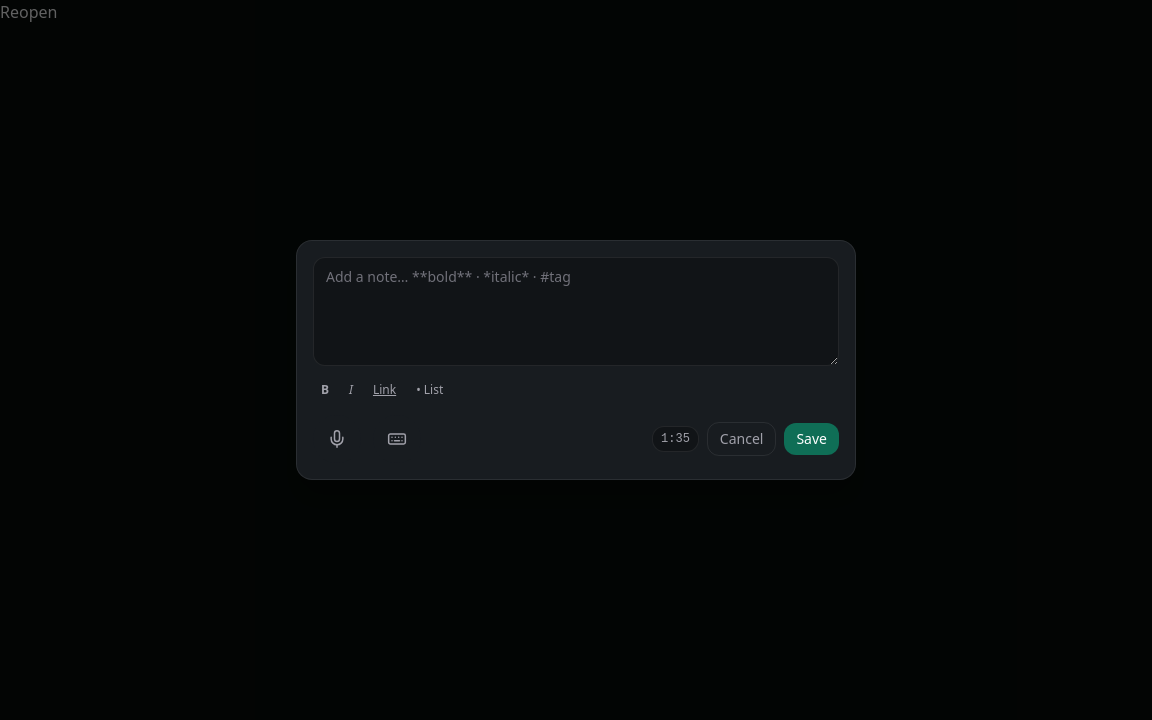
it: CommentEditorSheet › mic records, transcribes and inserts the draft at the caret
The width and height of the screenshot is (1152, 720).
Expected: the button with test id "voice-mic" is enabled, [313,415,361,463]
Type "prior " into the text box named "Comment".
click(576, 312); type("prior ")  # box [313,257,839,366]
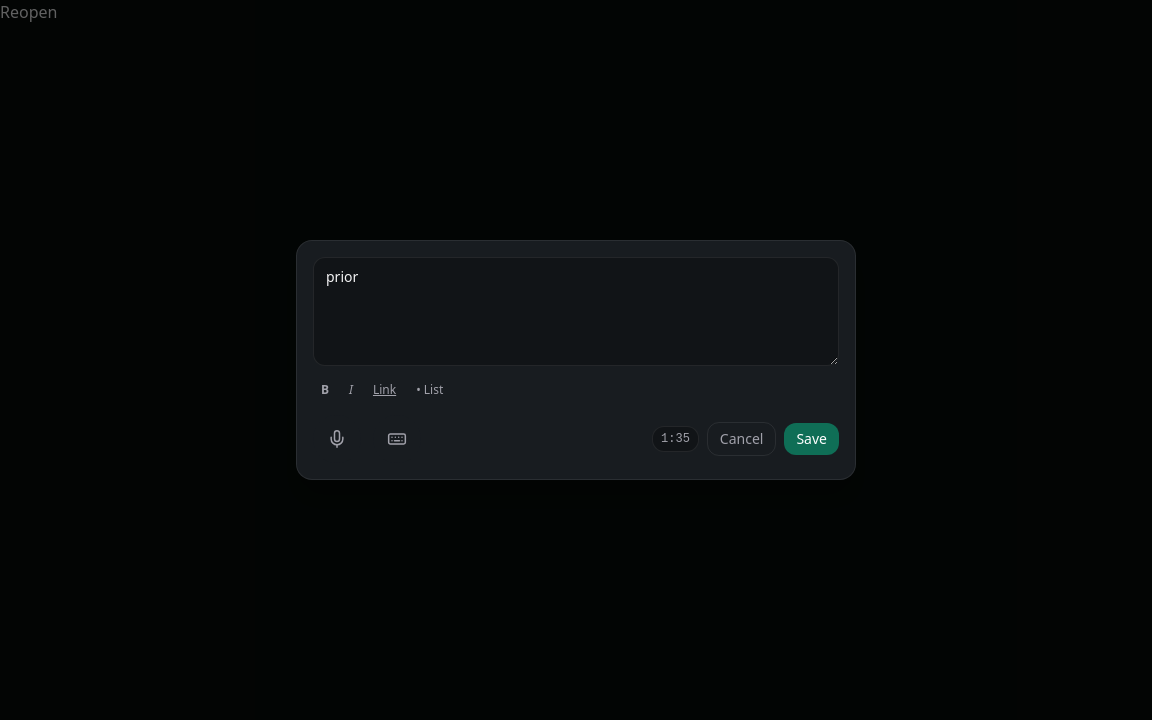
Click the button with test id "voice-mic".
click(337, 439)  # box [313,415,361,463]
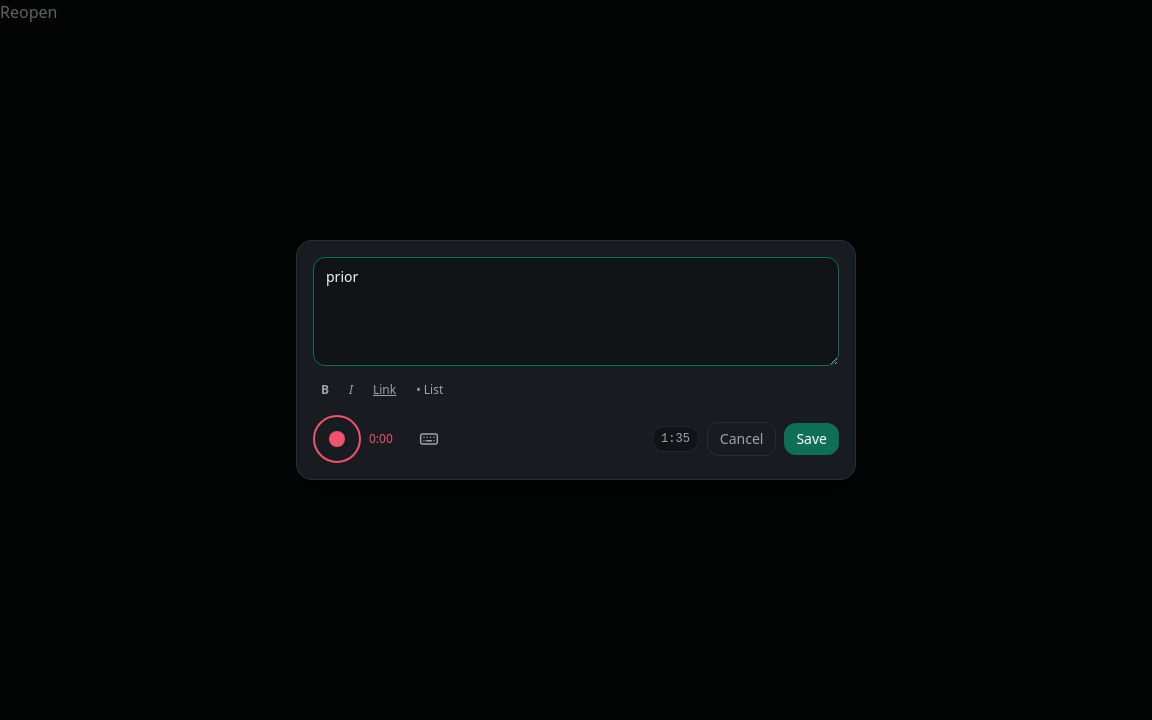
Expected: the text "0:00" is shown, [369,431,393,447]
Click the button with test id "voice-mic".
click(337, 439)  # box [313,415,361,463]
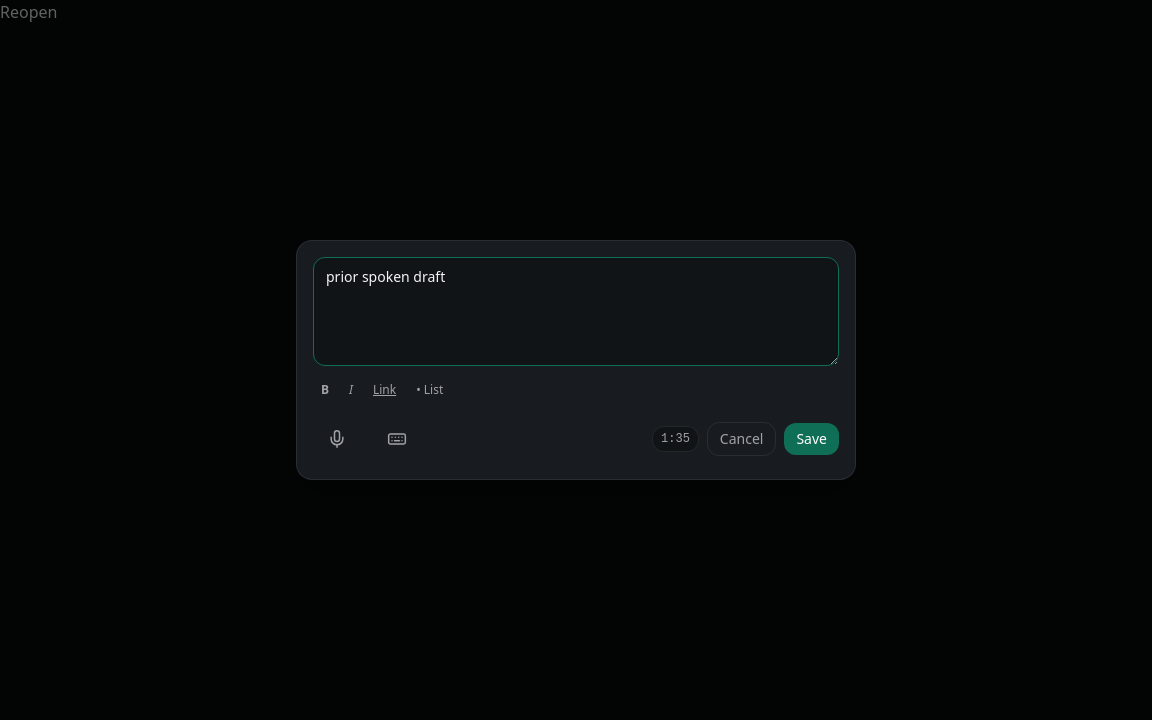
Expected: the text box named "Comment" holds "prior spoken draft", [313,257,839,366]
